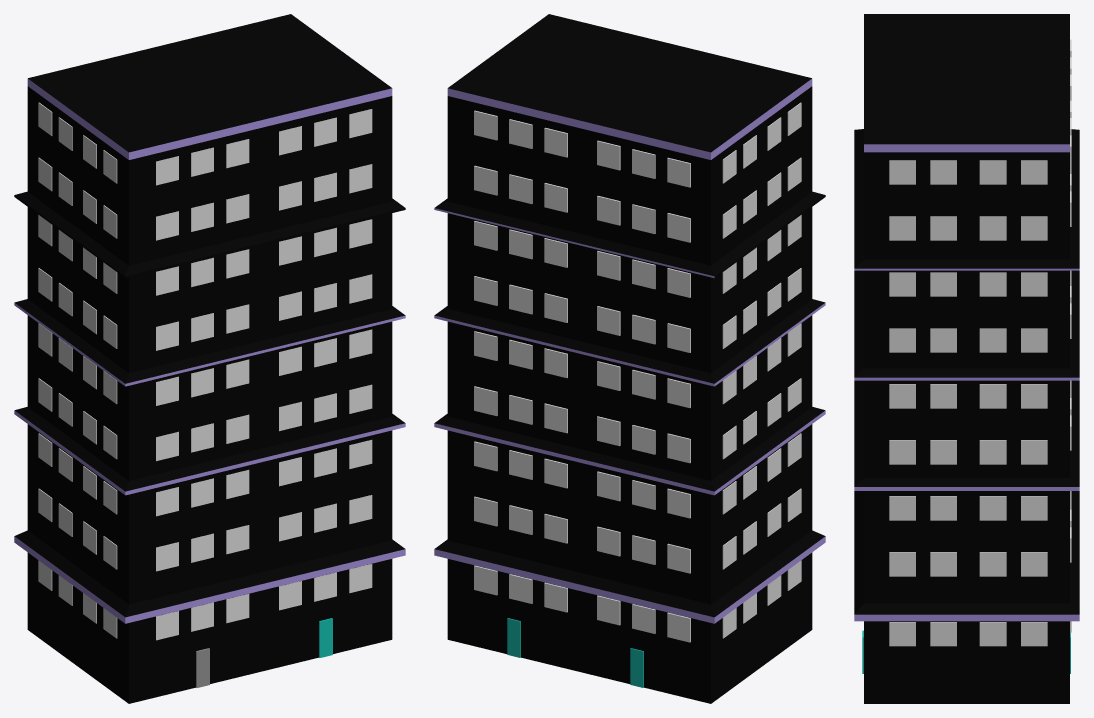
The model's file is Block_00.FBX.
3 views of the same model, side by side, from view 1: azimuth 30°, elevation 25°; view 2: azimuth 150°, elevation 25°; view 3: azimuth 270°, elevation 25° (orthographic).
Parts seen in each view (by area): view 1: Box001; view 2: Box001, Window133, Window102, Window103, Window105, Window106, Window115, Window116, Window118, Window119, Window120, Window132 (+43 smaller); view 3: Box001, Window056, Window060, Window064, Window068, Window072, Window076, Window080, Window084, Window088, Window054, Window055 (+25 smaller).
Part boxes in pixels (x1,y1,x2,y2): Box001: (14, 14, 405, 703); Box001: (434, 14, 825, 703); Window133: (509, 174, 532, 204); Window102: (474, 441, 497, 471); Window103: (509, 450, 532, 479); Window105: (597, 471, 620, 501); Window106: (632, 480, 655, 509); Window115: (509, 339, 532, 369); Window116: (544, 348, 567, 377); Window118: (632, 369, 655, 399); Window119: (667, 378, 690, 407); Window120: (474, 276, 497, 305); Window132: (474, 165, 497, 195); Box001: (854, 14, 1079, 703); Window056: (979, 160, 1006, 184); Window060: (979, 216, 1006, 240); Window064: (979, 272, 1006, 296); Window068: (979, 328, 1006, 352); Window072: (979, 384, 1006, 408); Window076: (979, 440, 1006, 464); Window080: (979, 496, 1006, 520); Window084: (979, 552, 1006, 576); Window088: (979, 622, 1006, 646); Window054: (889, 160, 915, 184); Window055: (930, 160, 956, 184).
Bounding box in the file's own units: 628 × 1181 × 431.
